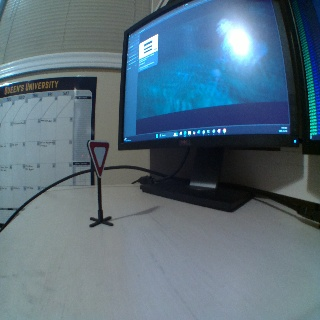sign_yield: (85, 140, 109, 176)
